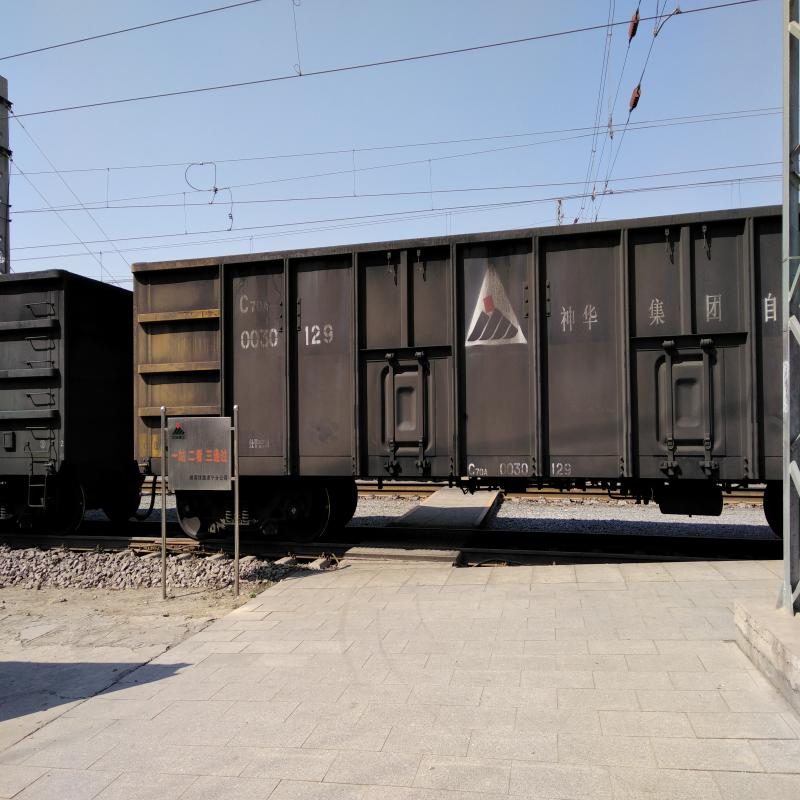train: (131, 271, 780, 549)
